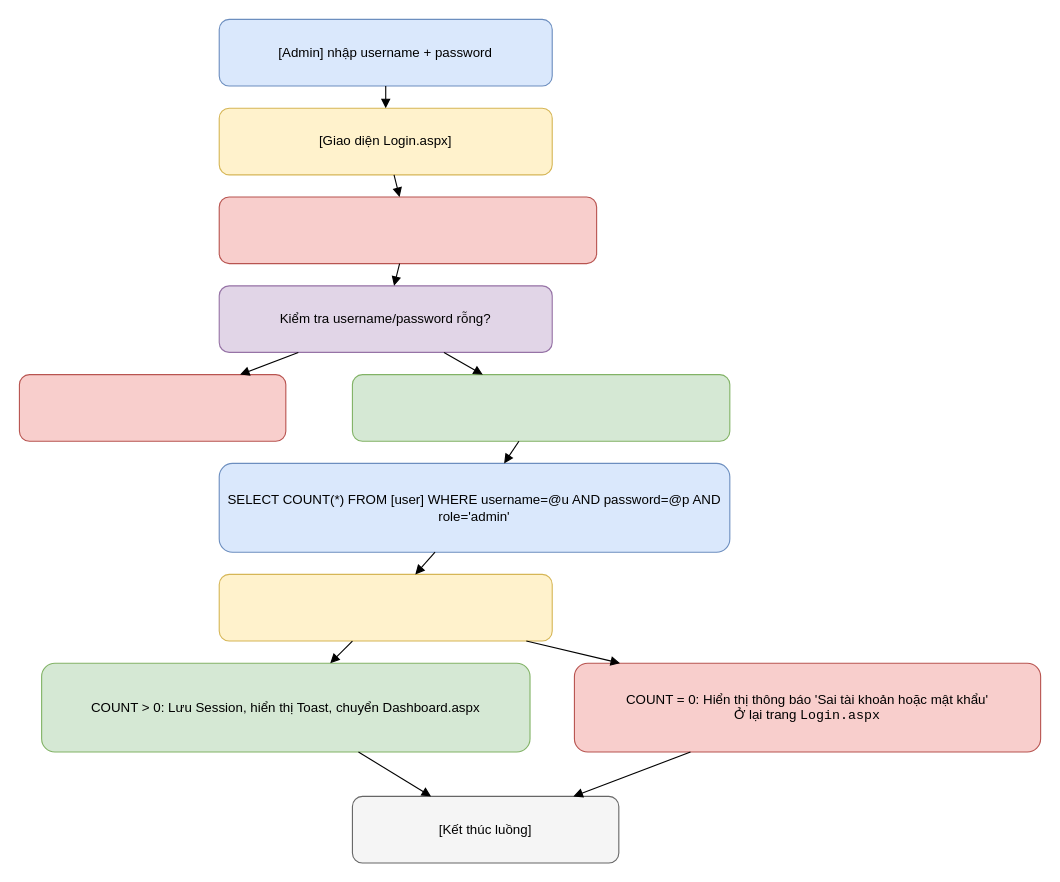
This 1060x882 diagram has some shape labels left out. The centre of each missing label's shape, as x and y in pixels:
"[Code-behind Login.aspx.cs] - btnLogin_Click" goes at (407,230).
"[SQL Server] trả kết quả COUNT" goes at (385,607).
"Nếu hợp lệ → Mã hóa mật khẩu (SHA1)" goes at (540,407).
"Nếu rỗng → Hiển thị lỗi" goes at (152,407).
